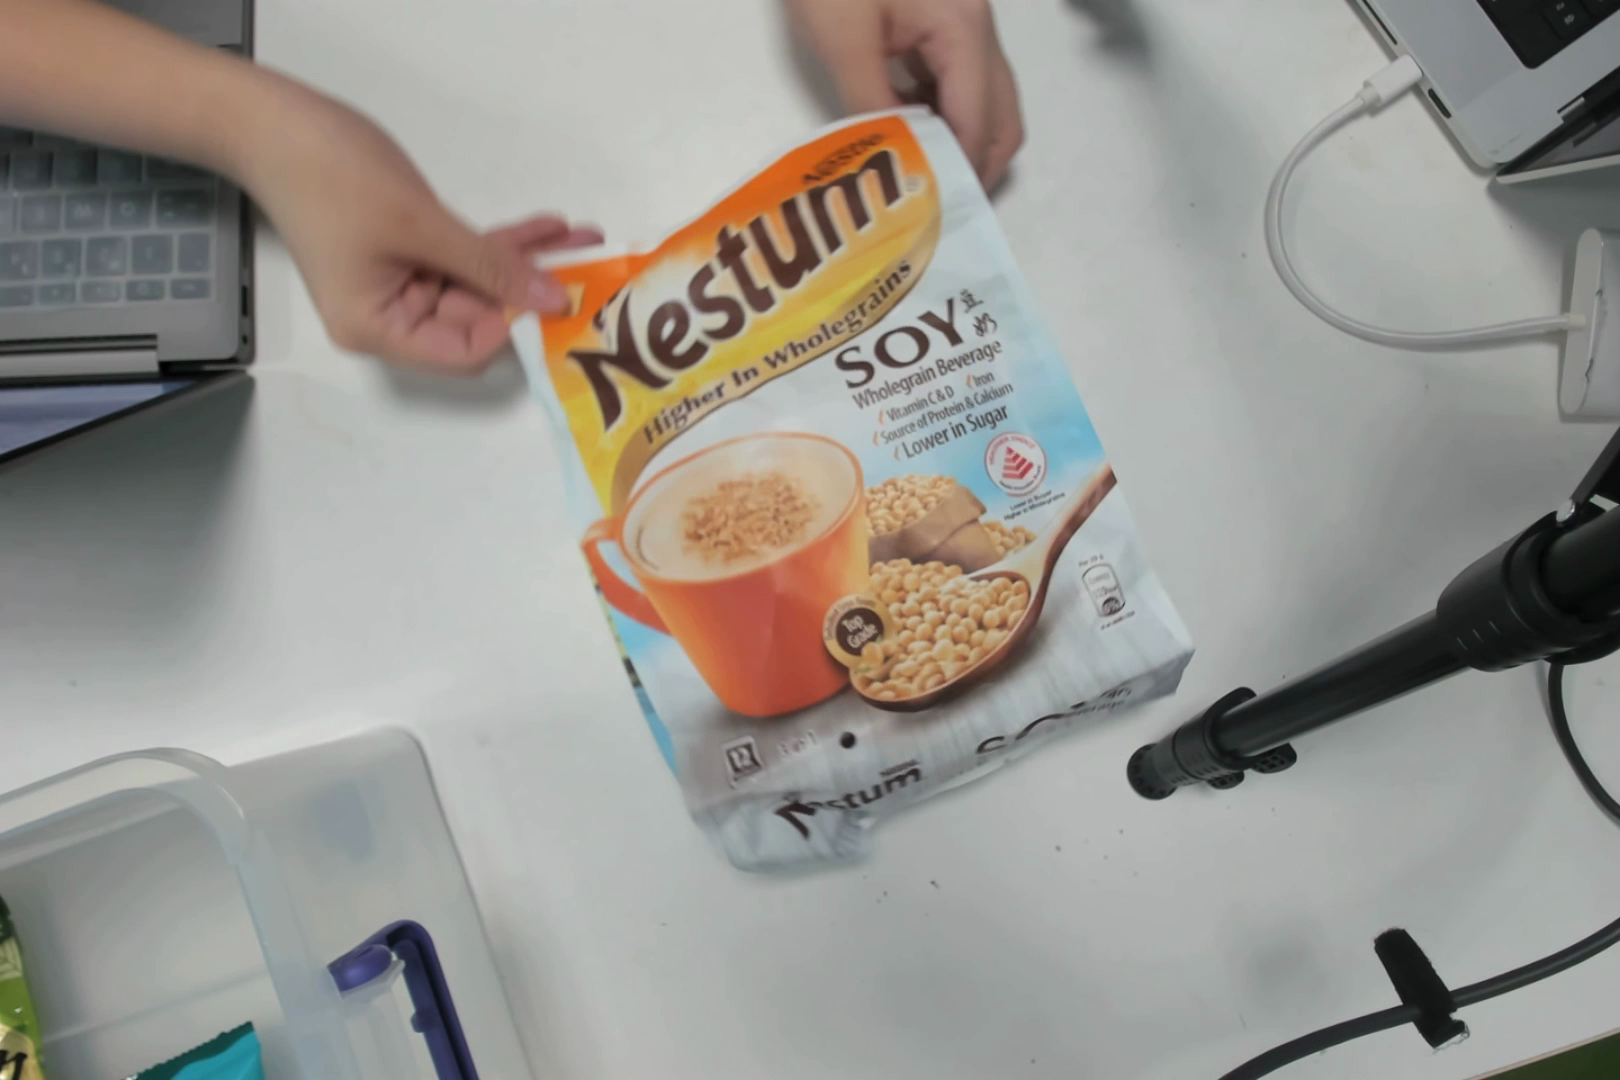e: (580, 143, 1128, 820)
